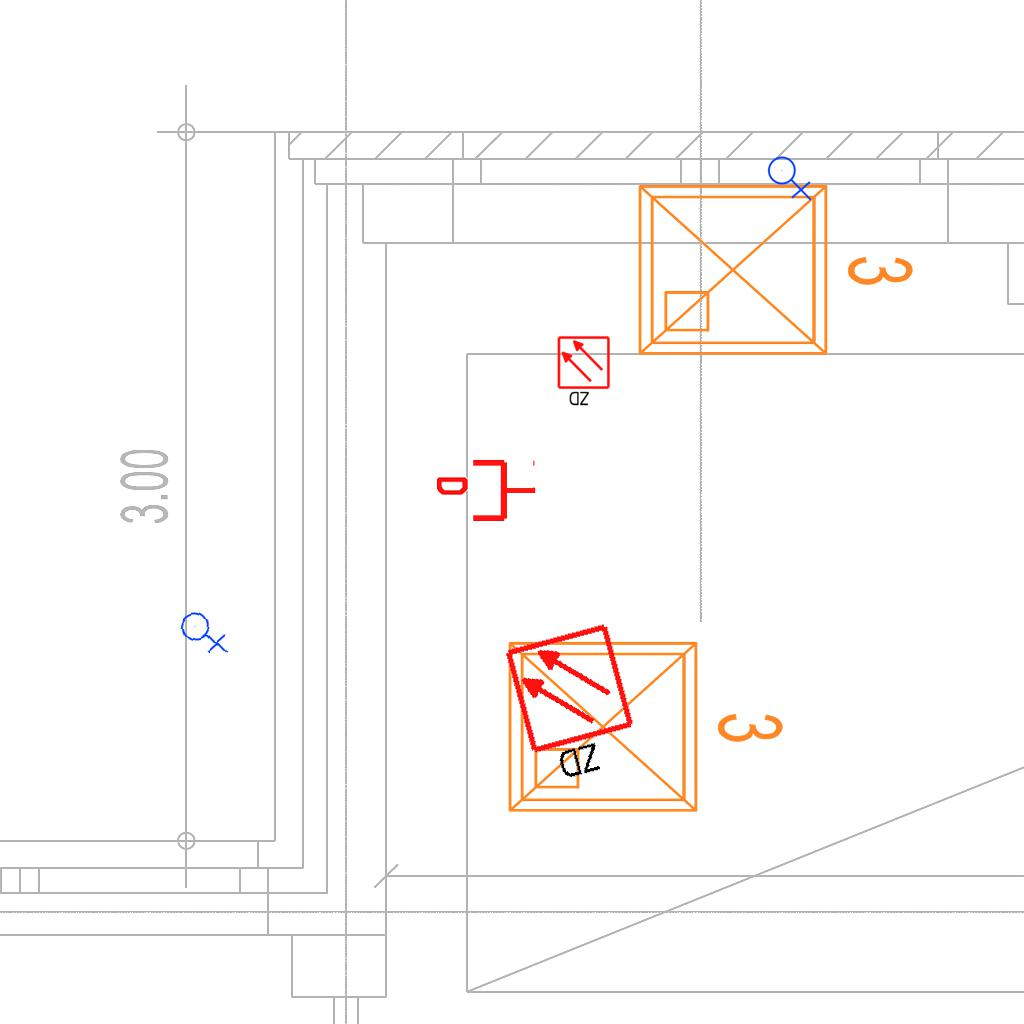Datenanschluss_einfach: (437, 456, 537, 525)
Einbaudownlights_LED_Konferenzraeume: (624, 162, 924, 370), (494, 619, 794, 827)
Elektroanschluss_allgemein_230V_Geraeteanschlussdose_230V: (178, 604, 231, 659), (767, 152, 814, 201)
ZD_Melder_in_Zwischendecke_mit_Revisionsoeffnung_mind_40_x_40_cm: (501, 619, 651, 794), (556, 335, 613, 409)
